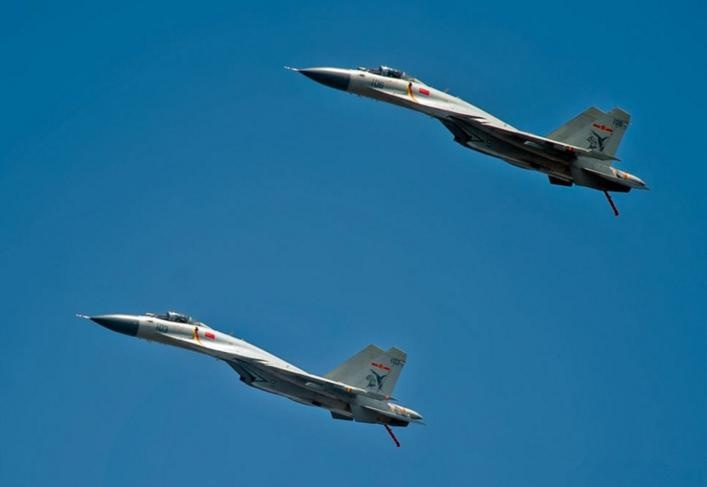airplane: (280, 53, 652, 215), (73, 303, 423, 443)
